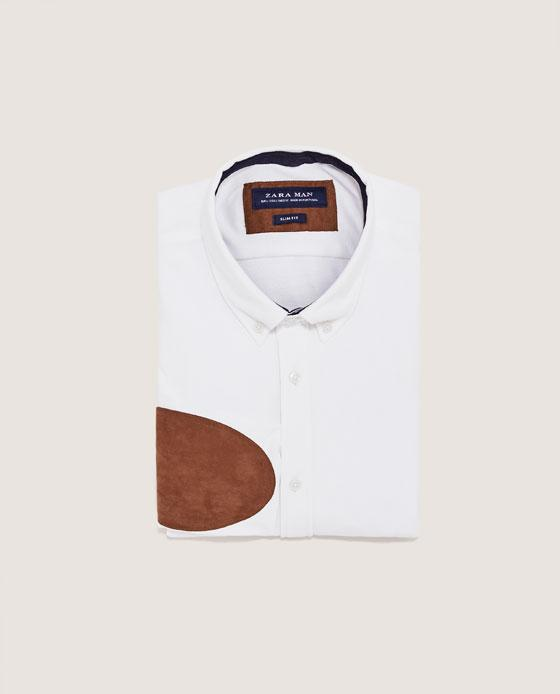teeshirt: (137, 141, 435, 550)
